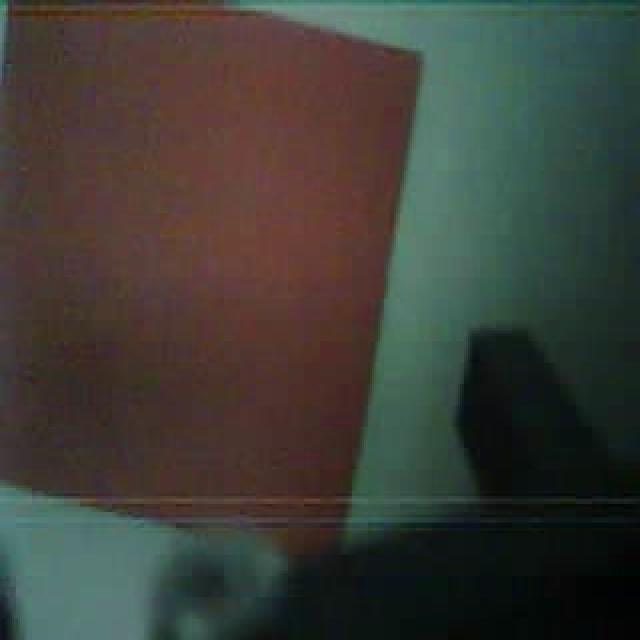red_box: (2, 4, 411, 553)
